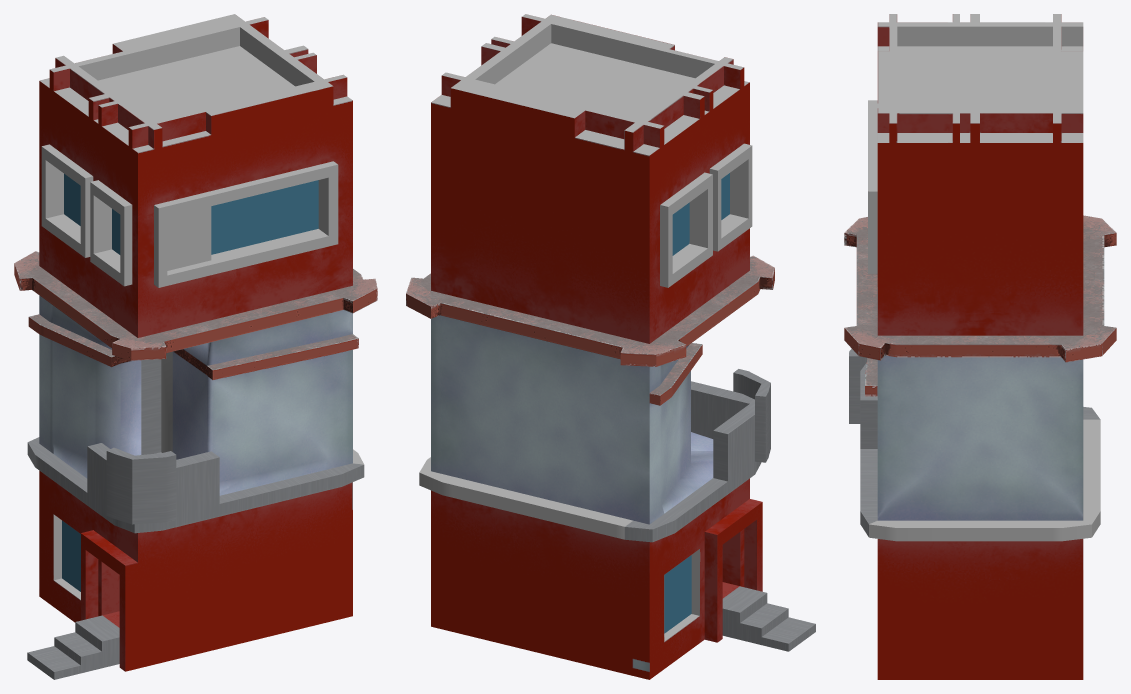
Rendered from ChaosZooCityMapTower08.fbx.
The picture shows the model from 3 angles, left to right: view 1: azimuth 30°, elevation 25°; view 2: azimuth 150°, elevation 25°; view 3: azimuth 270°, elevation 25°; orthographic projection. The views are drawn at different scales.
Visible parts, largest first — view 1: pCube5; view 2: pCube5; view 3: pCube5.
Boxes of the visible parts, left/top/right/bottom form: pCube5: left=14, top=14, right=377, bottom=679; pCube5: left=406, top=14, right=815, bottom=679; pCube5: left=844, top=14, right=1116, bottom=679.
Bounding box in the file's own units: 73.83 × 119 × 52.77.
